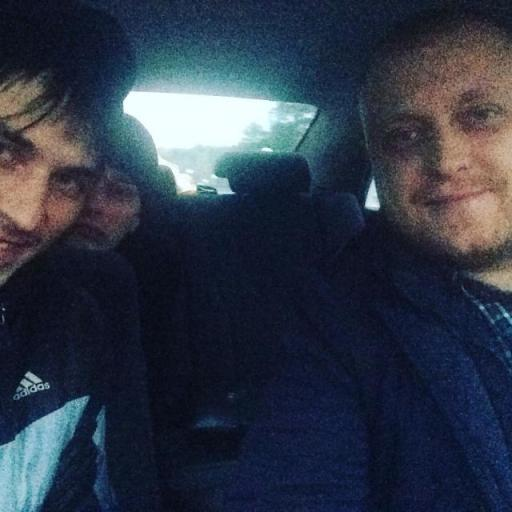Adidas: (9, 367, 53, 403)
